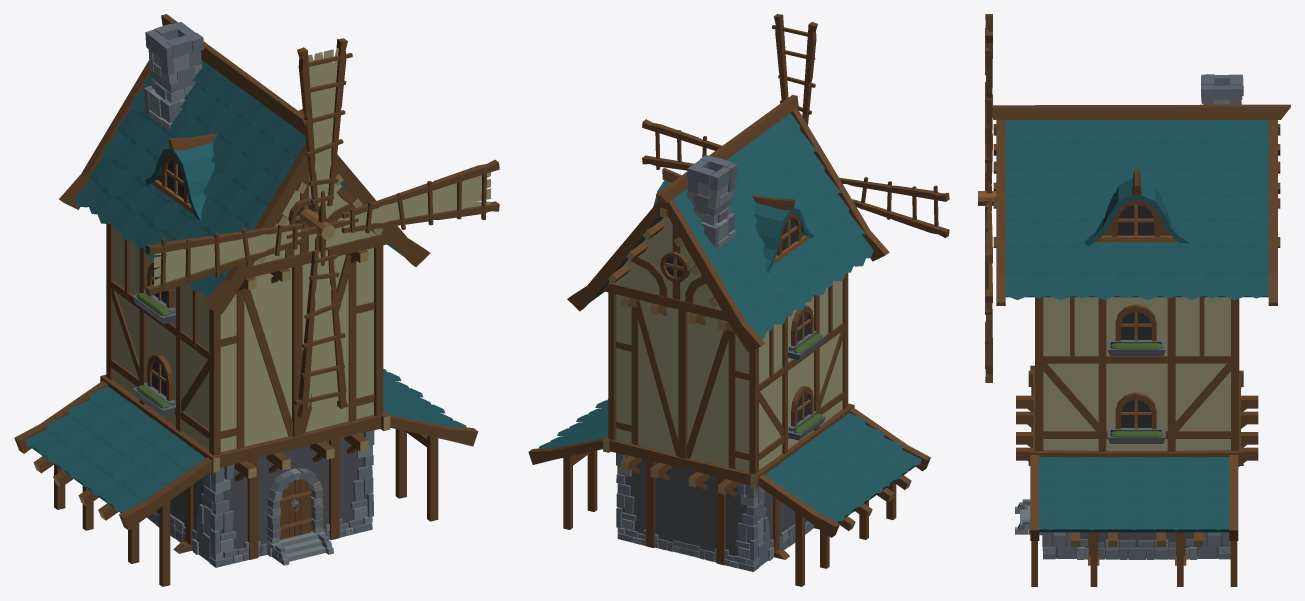
The model's file is b_mill.glb.
3 renders of one model, left to right at view 1: azimuth 30°, elevation 25°; view 2: azimuth 150°, elevation 25°; view 3: azimuth 270°, elevation 25°, orthographic. The views are drawn at different scales.
Visible parts, largest first — view 1: Mill; view 2: Mill; view 3: Mill.
Boxes of the visible parts, box(x1,y1,x2,y2) form: Mill: box(14, 14, 499, 586); Mill: box(528, 14, 949, 586); Mill: box(978, 14, 1290, 586).
Bounding box in the file's own units: 3.4 × 4.8 × 2.73.
